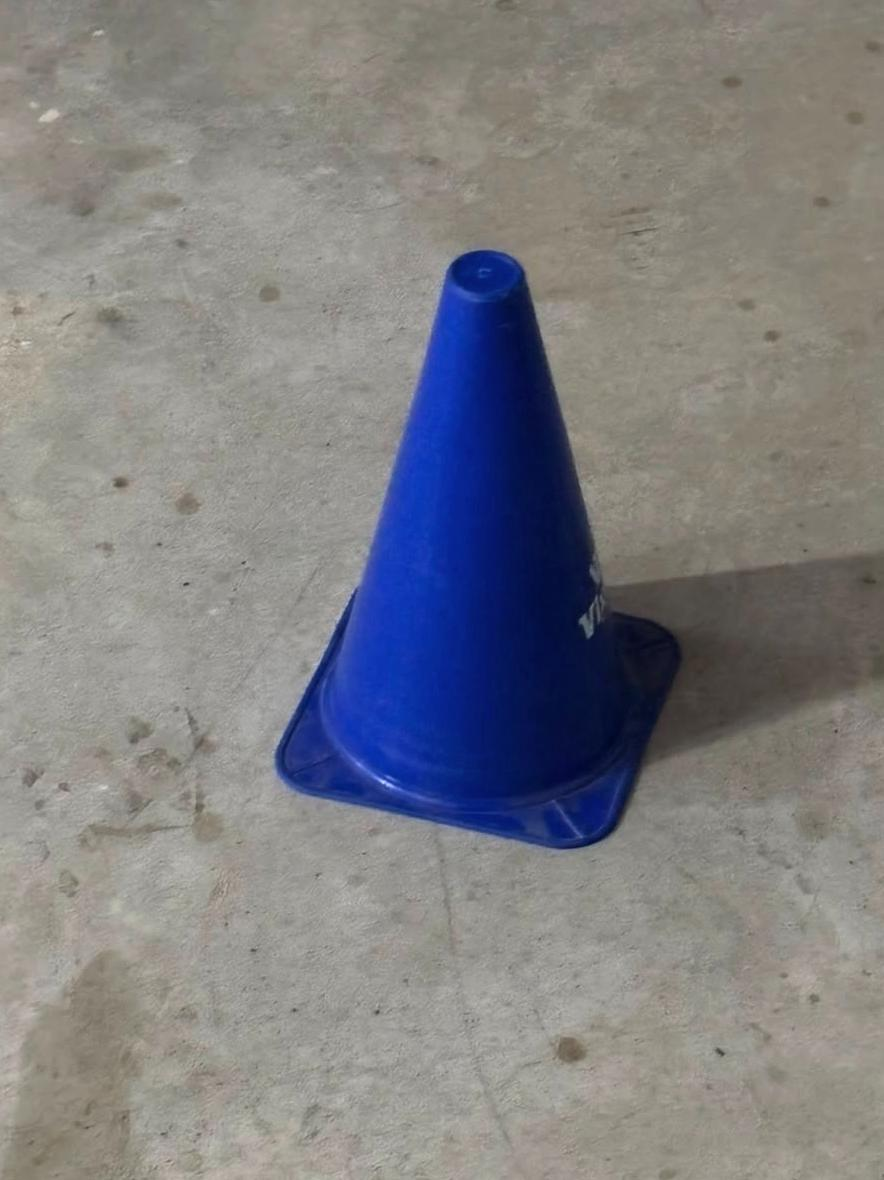0 cone: (277, 250, 678, 846)
